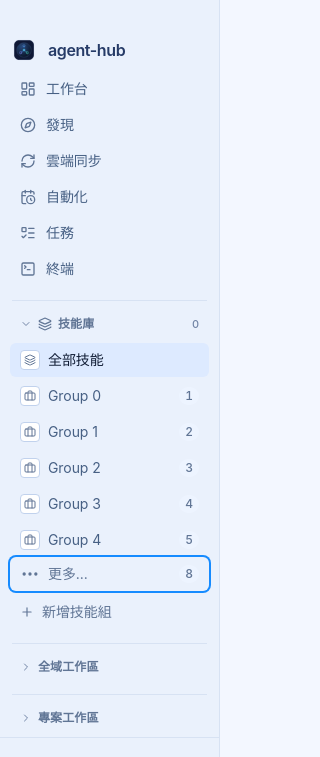
Scenario: expands the same sidebar list and collapses it with focus preserved in zh-TW
This screenshot has width=320, height=757.
Click the button "更多... 8" at (110, 574), box [10,557,209,591]
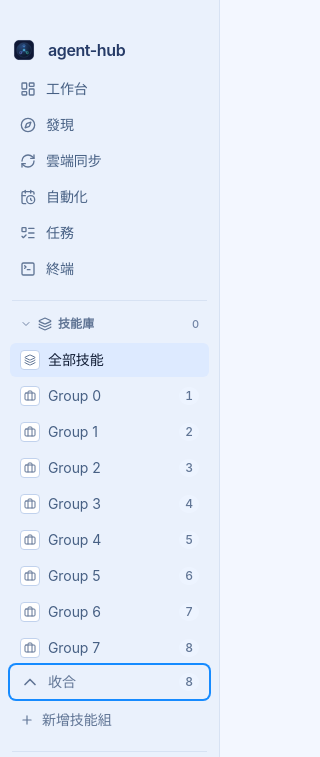
expect the button "收合 8" is expanded: met
Click the button "收合 8" at (110, 682), box [10,665,209,699]
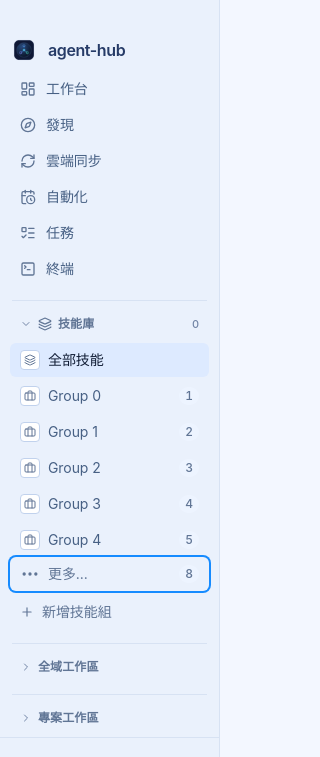
expect the button "更多... 8" is collapsed: met, box [10,557,209,591]
